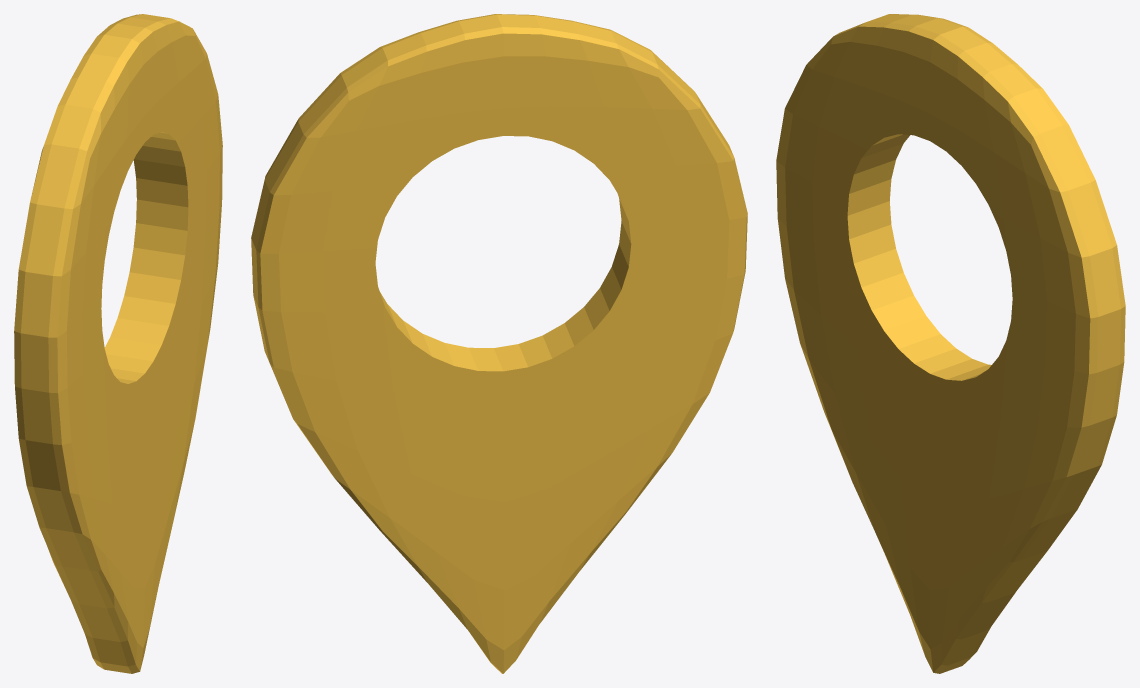
Rendered from MarcadorLaBoca-OLD.gltf.
3 views of the same model, side by side, from view 1: azimuth 30°, elevation 25°; view 2: azimuth 150°, elevation 25°; view 3: azimuth 270°, elevation 25° (orthographic).
Parts seen in each view (by area): view 1: MarcadorLaBoca; view 2: MarcadorLaBoca; view 3: MarcadorLaBoca.
Part boxes in pixels (x1,y1,x2,y2): MarcadorLaBoca: (14,14,222,673); MarcadorLaBoca: (251,14,747,673); MarcadorLaBoca: (776,14,1125,673).
Size of the model in its own units: 0.4069 by 0.7114 by 0.3524.
